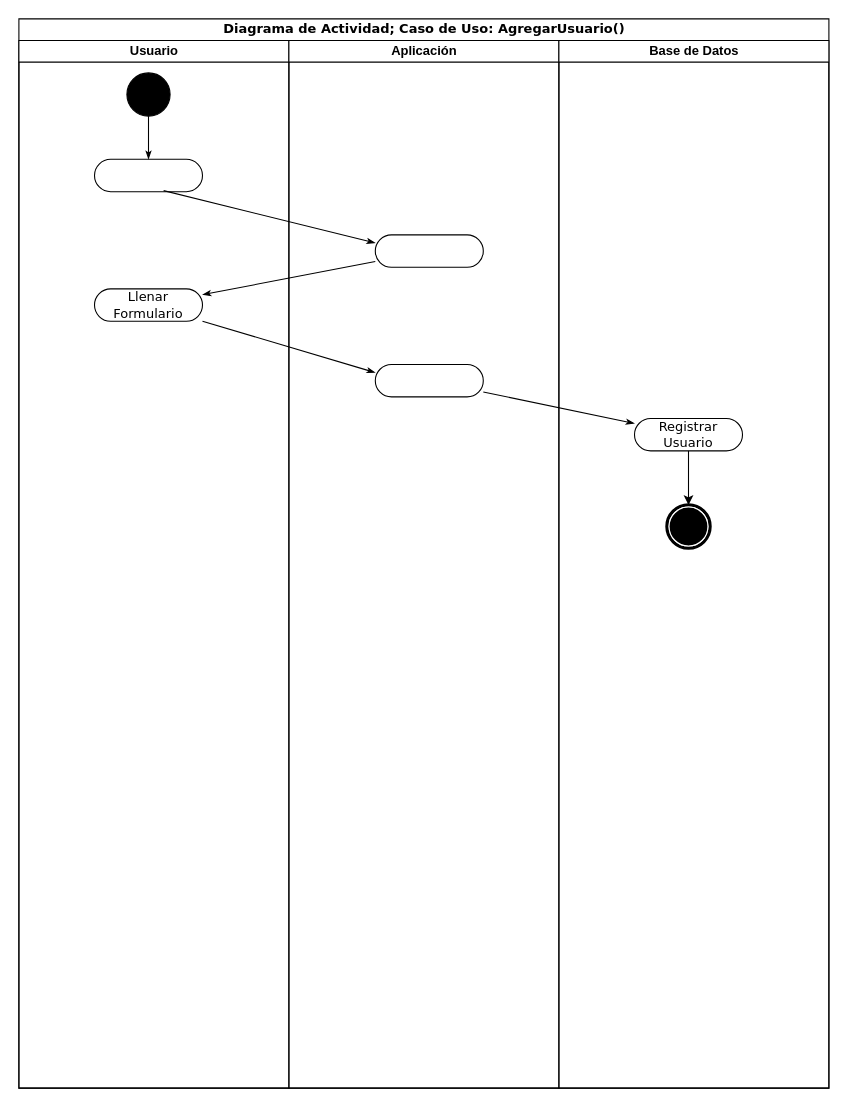
Image size: 848x1107. Some labels were removed from this diagram. Here are the shapes that lost their labels. From the top down, the centre of each, then its label:
At [147,175]: "agregarUsuario()".
At [428,250]: "CargarAgregar UsuarioForm()".
At [428,380]: "Enviar Datos (query)".
